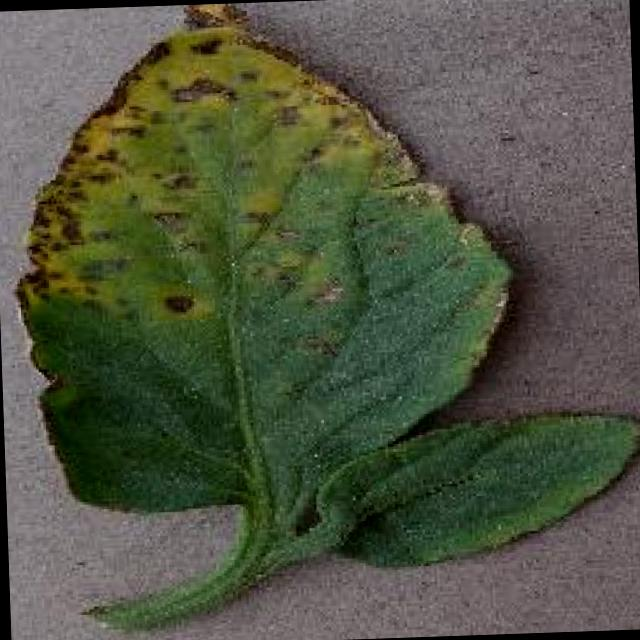bacterial spot: (14, 3, 640, 628)
